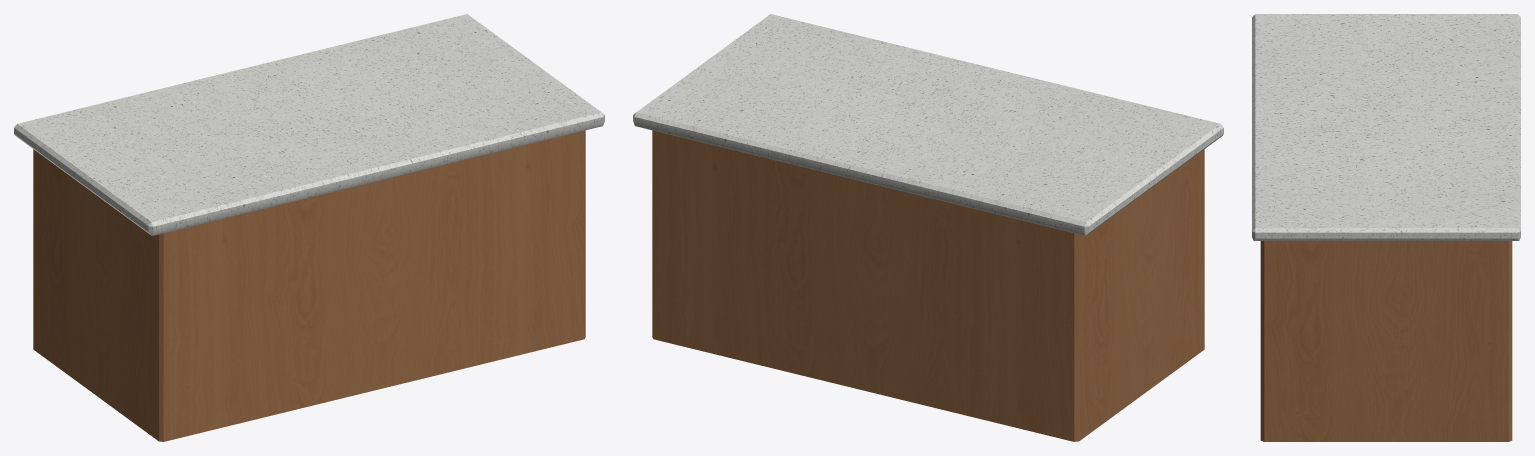
3 views of the same model, side by side, from view 1: azimuth 30°, elevation 25°; view 2: azimuth 150°, elevation 25°; view 3: azimuth 270°, elevation 25° (orthographic). The views are drawn at different scales.
Visible parts, largest first — view 1: Table; view 2: Table; view 3: Table.
Part boxes in pixels (x1,y1,x2,y2): Table: [14, 14, 604, 441]; Table: [633, 14, 1223, 441]; Table: [1252, 14, 1520, 441].
Bounding box in the file's own units: 44.9 × 21.19 × 23.52.
